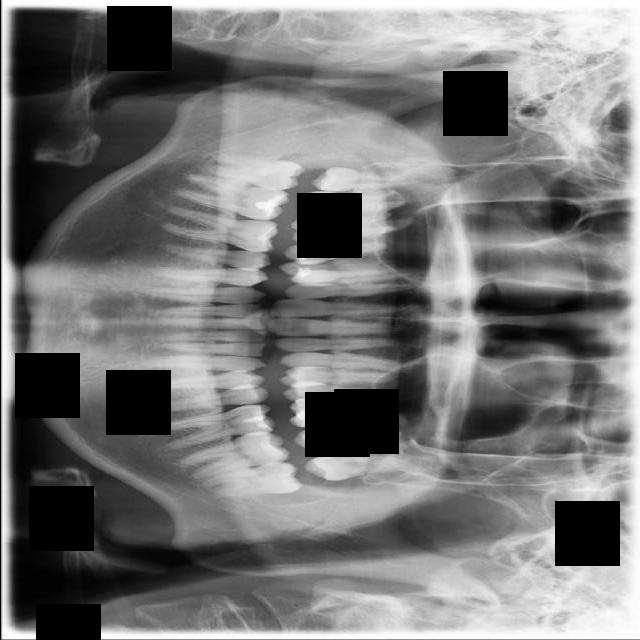3M ESPE Implant: (312, 167, 422, 192)
52: (239, 179, 290, 230), (228, 397, 277, 444), (288, 396, 333, 429), (290, 217, 334, 247), (279, 260, 326, 284), (284, 243, 325, 266)
73: (27, 606, 43, 616)
BioHorizons Implant: (293, 427, 405, 456)
BioLife Implant: (304, 453, 423, 483)
Biomet 3i Implant: (198, 459, 303, 502)
Blue Sky Bio Implant: (176, 425, 289, 483)
Caries: (297, 190, 411, 221)
Implant: (172, 171, 290, 225)
Keystone Dental Implant: (205, 151, 306, 194)
